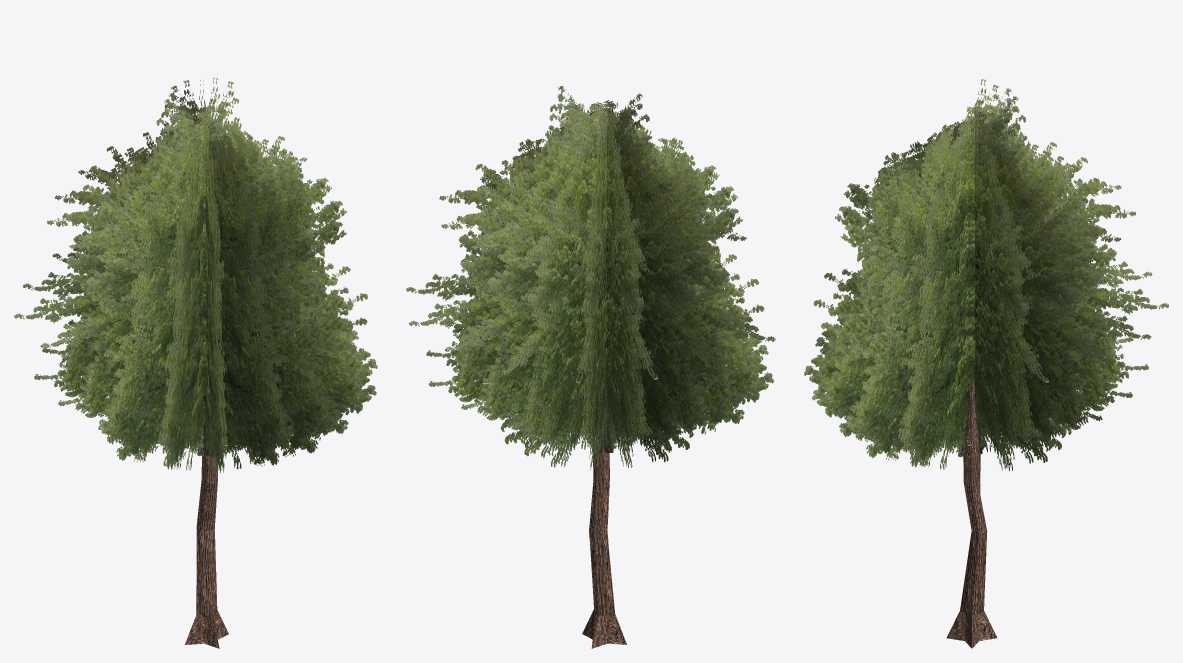
Rendered from tree2.fbx.
The picture shows the model from 3 angles, left to right: view 1: azimuth 30°, elevation 25°; view 2: azimuth 150°, elevation 25°; view 3: azimuth 270°, elevation 25°; orthographic projection.
Visible parts, largest first — view 1: tree2.002; view 2: tree2.002; view 3: tree2.002.
Boxes of the visible parts, x1,y1,x2,y2 form: tree2.002: (14, 77, 377, 648); tree2.002: (406, 86, 775, 648); tree2.002: (804, 79, 1168, 648).
Size of the model in its own units: 24.49 by 39.27 by 23.9.
Materials: 2 (2 with a texture image).
